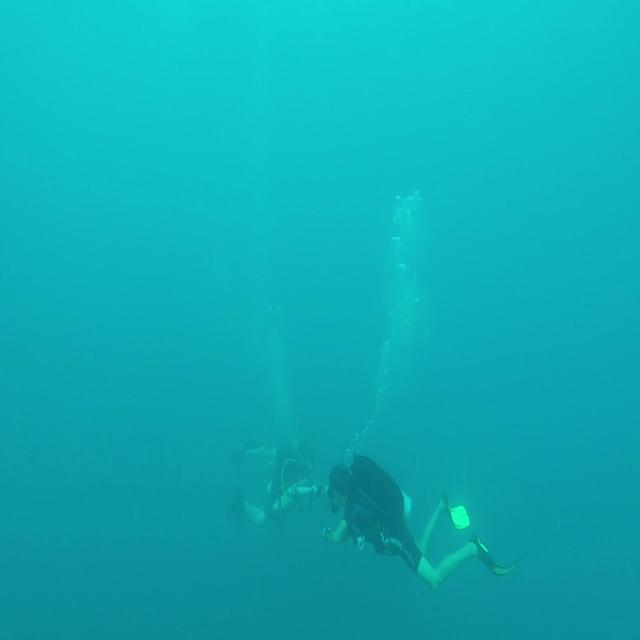human: (322, 451, 517, 591), (228, 434, 324, 533)
